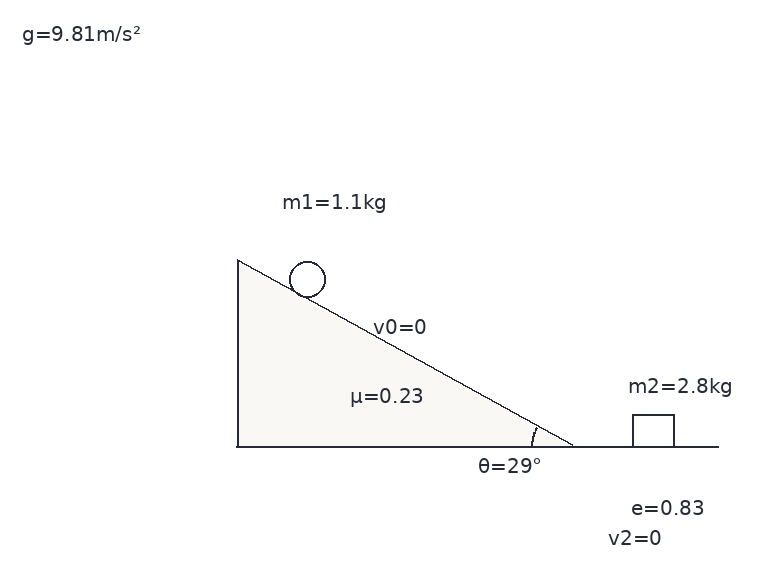ball: (287, 259, 327, 299)
block: (630, 413, 676, 448)
ramp: (235, 258, 574, 448)
